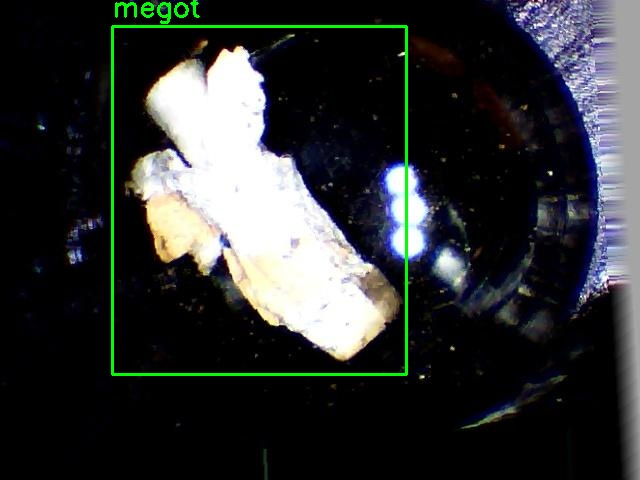megot: (112, 26, 406, 374)
